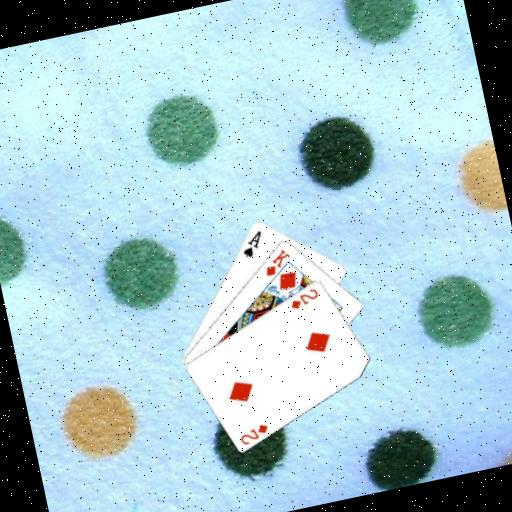2D: (285, 284, 322, 312), (235, 419, 272, 447)
AS: (235, 226, 267, 260)
KD: (257, 244, 294, 278)
